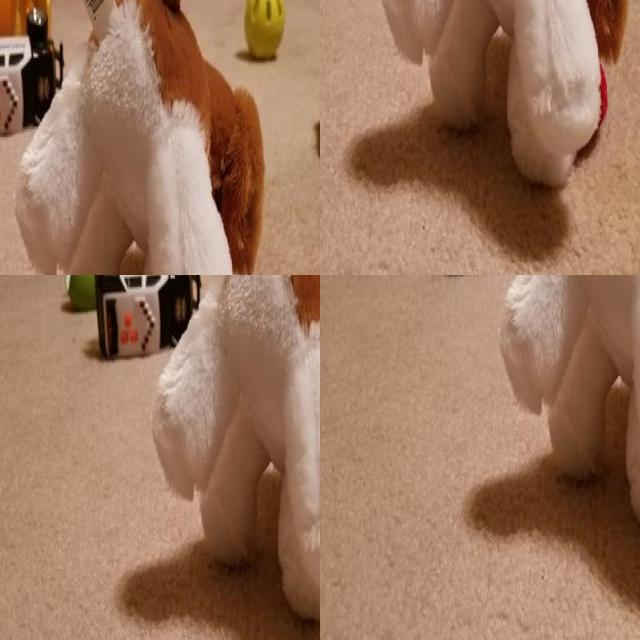toy: (379, 0, 632, 169), (498, 275, 640, 519), (240, 286, 320, 406), (268, 482, 320, 584), (81, 305, 146, 373), (205, 314, 237, 378), (268, 427, 300, 488), (295, 418, 320, 484), (237, 420, 264, 477), (187, 409, 217, 458)
